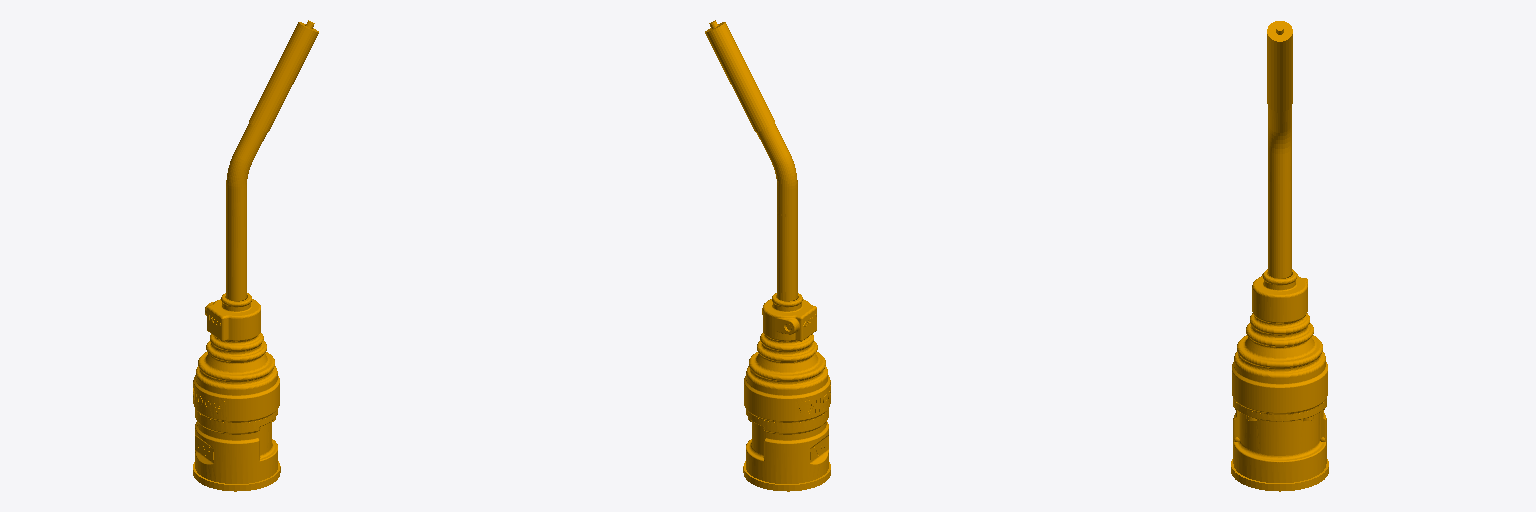
robot.urdf — HQ2:
<?xml version="1.0"?>
<robot name="HQ2">
  <!-- Project convention: tool origin RPY values are authored in degrees. -->
  <link name="tool_base">
    <visual>
      <origin xyz="0 0 0" rpy="0 0 0"/>
      <geometry>
        <mesh filename="Tool.stl" scale="0.001 0.001 0.001"/>
      </geometry>
    </visual>
  </link>

  <link name="tool0"/>

  <joint name="tool0_joint" type="fixed">
    <parent link="tool_base"/>
    <child link="tool0"/>
    <origin xyz="0.09 0 0.44" rpy="0 45 0"/>
  </joint>
</robot>

--- Facts derived from the render (not from the file) ---
The picture shows the robot from 3 angles, left to right: view 1: azimuth 30°, elevation 25°; view 2: azimuth 150°, elevation 25°; view 3: azimuth 270°, elevation 25°; orthographic projection.
Model HQ2 with 2 links and 1 joints (1 fixed), rooted at tool_base, posed all joints at 0.
Links seen in each view (by area): view 1: tool_base; view 2: tool_base; view 3: tool_base.
Link boxes in pixels (x1=…): tool_base: x1=193, y1=20, x2=318, y2=491; tool_base: x1=705, y1=20, x2=830, y2=491; tool_base: x1=1231, y1=21, x2=1328, y2=491.
Bounding box of the posed robot: 0.1188 × 0.0759 × 0.4149 m (x, y, z).
Meshes: 1 distinct files referenced, 1 mesh visuals loaded (1 binary STL).
